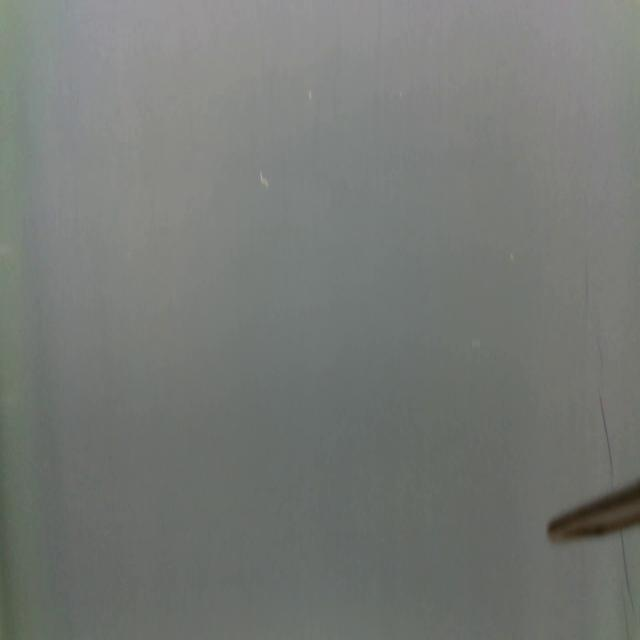crease: (598, 387, 614, 478), (620, 530, 634, 614)
hole: (258, 171, 270, 189), (307, 86, 314, 102)
